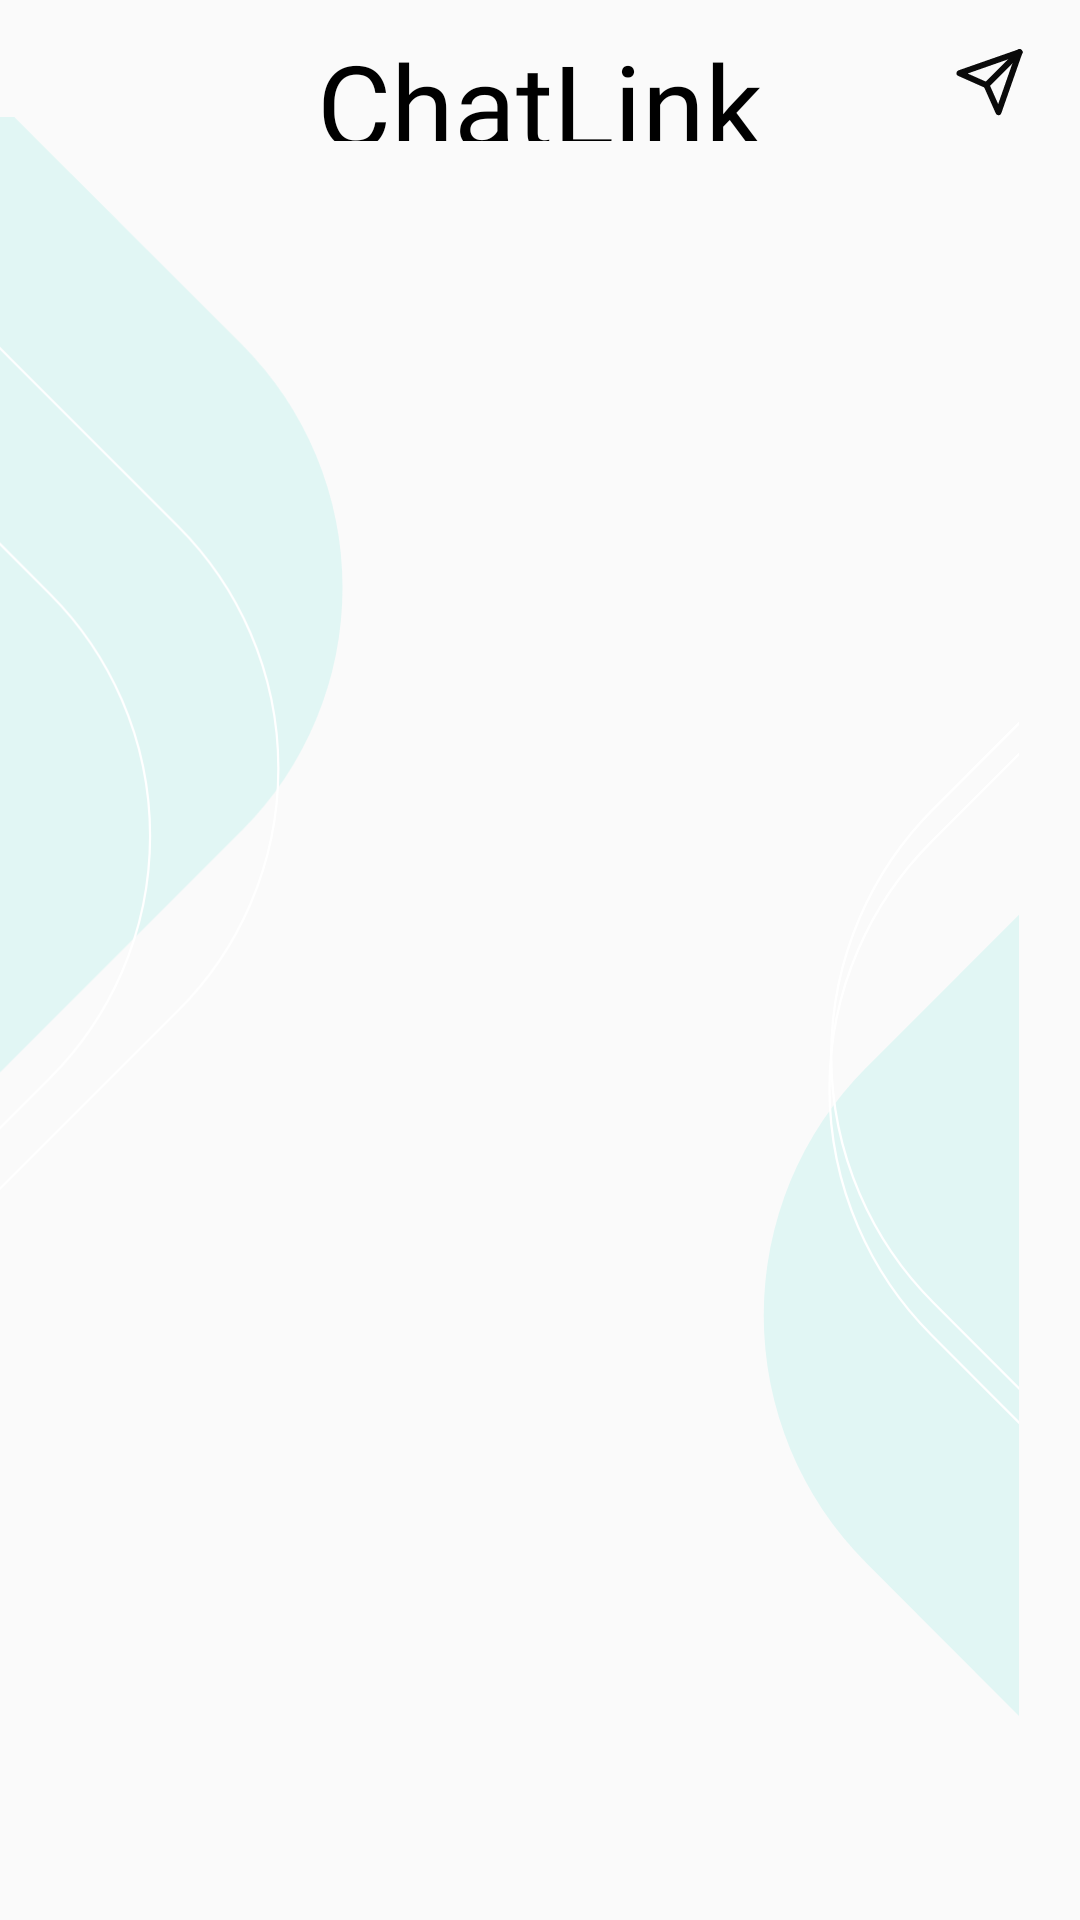

Screen size 1080px×1920px. Icon name, then its center in pixels as (x,y):
send: (989,82)
